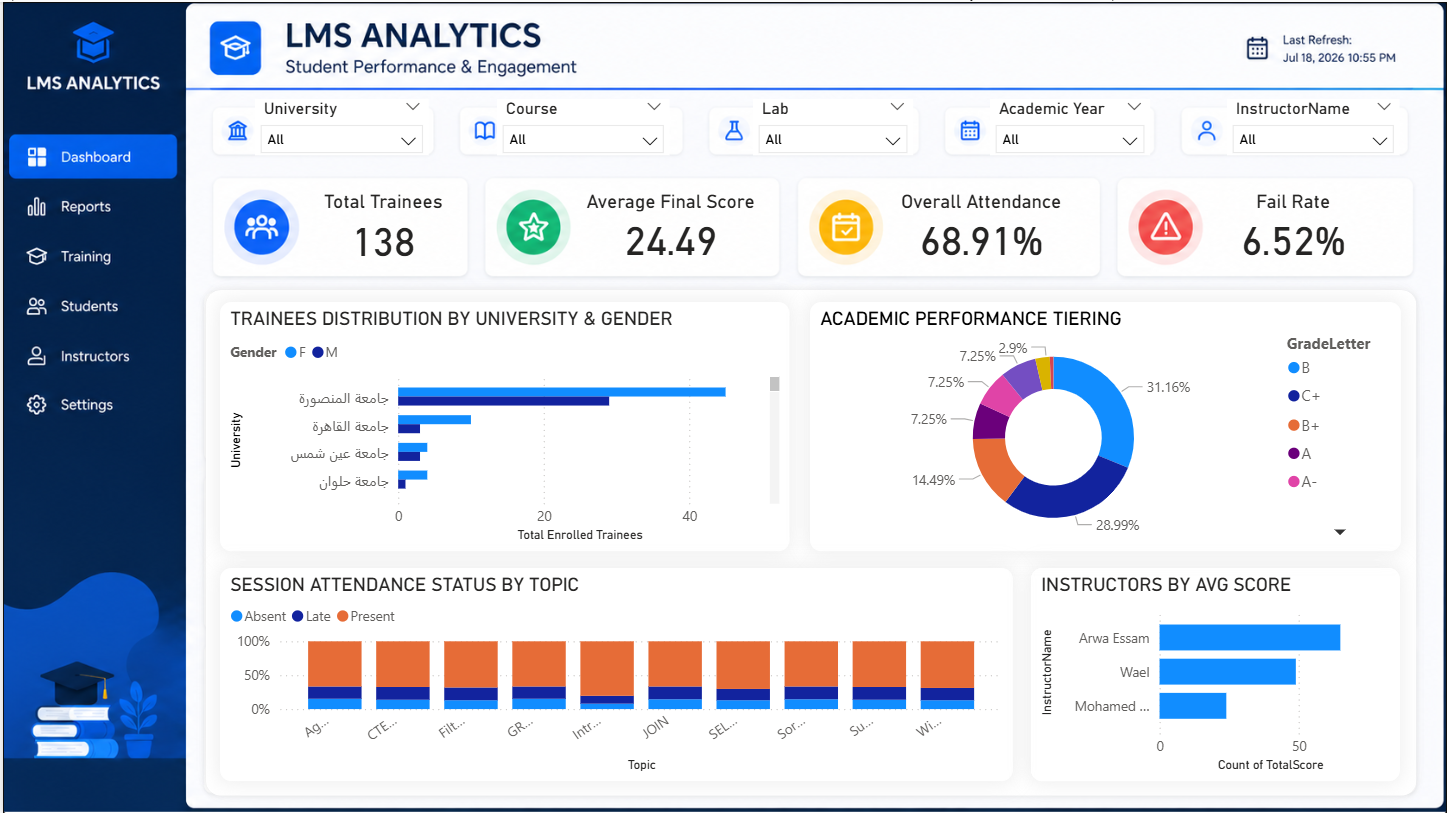

The page's visual inventory and layout, read from the dashboard file:
{"tool":"powerbi","page":{"name":"Page 1","canvas":[1280,720],"ordinal":0},"visuals":[{"type":"card","title":"Total Trainees","fields":{"Values":["Table_measures.Total Enrolled Trainees"]},"box":[258.7,166.3,156.6,65.2],"z":0},{"type":"card","title":"Average Final Score","fields":{"Values":["Table_measures.Average Final Score"]},"box":[509.7,166.3,164.4,65.2],"z":1000},{"type":"card","title":"Overall Attendance","fields":{"Values":["Table_measures.Overall Attendance"]},"box":[788.8,166.3,156.6,65.2],"z":2000},{"type":"card","title":"Fail Rate","fields":{"Values":["Table_measures.Fail Rate"]},"box":[1066,166.3,156.6,65.2],"z":3000},{"type":"slicer","fields":{"Values":["v_SessionAttendance.University"]},"box":[223.8,85.9,153.8,50],"z":4000},{"type":"slicer","fields":{"Values":["v_SessionAttendance.CourseName"]},"box":[438.3,85.8,153.3,50],"z":5000},{"type":"slicer","fields":{"Values":["v_TraineePerformance.LabCode"]},"box":[665.3,85.9,141.8,50],"z":6000},{"type":"slicer","fields":{"Values":["v_TraineePerformance.AcademicYear"]},"box":[875.3,85.9,141.8,50],"z":7000},{"type":"slicer","fields":{"Values":["v_TraineePerformance.InstructorName"]},"box":[1085,85.8,153.3,50],"z":8000},{"type":"shape","box":[172.6,248.4,1087.4,462.6],"z":9000},{"type":"clusteredBarChart","title":"TRAINEES DISTRIBUTION BY UNIVERSITY & GENDER","fields":{"Category":["v_TraineePerformance.University"],"Y":["Table_measures.Total Enrolled Trainees"],"Series":["v_TraineePerformance.Gender"]},"box":[192.7,266.4,504.5,220.9],"z":10000},{"type":"donutChart","title":"ACADEMIC PERFORMANCE TIERING","fields":{"Category":["v_TraineePerformance.GradeLetter"],"Y":["CountNonNull(v_SessionAttendance.CourseName)"]},"box":[715.5,266.4,523.6,220.9],"z":11000},{"type":"hundredPercentStackedColumnChart","title":"SESSION ATTENDANCE STATUS BY TOPIC","fields":{"Category":["v_SessionAttendance.Topic"],"Series":["v_SessionAttendance.AttendanceStatus"],"Y":["CountNonNull(v_SessionAttendance.AttendanceStatus)"]},"box":[192.7,501.8,702.7,189.1],"z":12000},{"type":"clusteredBarChart","title":"INSTRUCTORS BY AVG SCORE","fields":{"Category":["v_TraineePerformance.InstructorName"],"Y":["CountNonNull(v_TraineePerformance.TotalScore)"]},"box":[911.8,501.8,327.3,189.1],"z":13000}]}

Visuals, with their boxes on the page's 1280x720 design canvas (x1, y1, x2, y2). These are canvas units, not pixel positions in the 1447x813 screenshot, which may show the page scaled, cropped or inside an application window:
"Total Trainees" card: [x1=259, y1=166, x2=415, y2=232]
"Average Final Score" card: [x1=510, y1=166, x2=674, y2=232]
"Overall Attendance" card: [x1=789, y1=166, x2=945, y2=232]
"Fail Rate" card: [x1=1066, y1=166, x2=1223, y2=232]
slicer - v_SessionAttendance.University: [x1=224, y1=86, x2=378, y2=136]
slicer - v_SessionAttendance.CourseName: [x1=438, y1=86, x2=592, y2=136]
slicer - v_TraineePerformance.LabCode: [x1=665, y1=86, x2=807, y2=136]
slicer - v_TraineePerformance.AcademicYear: [x1=875, y1=86, x2=1017, y2=136]
slicer - v_TraineePerformance.InstructorName: [x1=1085, y1=86, x2=1238, y2=136]
shape: [x1=173, y1=248, x2=1260, y2=711]
"TRAINEES DISTRIBUTION BY UNIVERSITY & GENDER" clusteredBarChart: [x1=193, y1=266, x2=697, y2=487]
"ACADEMIC PERFORMANCE TIERING" donutChart: [x1=716, y1=266, x2=1239, y2=487]
"SESSION ATTENDANCE STATUS BY TOPIC" hundredPercentStackedColumnChart: [x1=193, y1=502, x2=895, y2=691]
"INSTRUCTORS BY AVG SCORE" clusteredBarChart: [x1=912, y1=502, x2=1239, y2=691]
